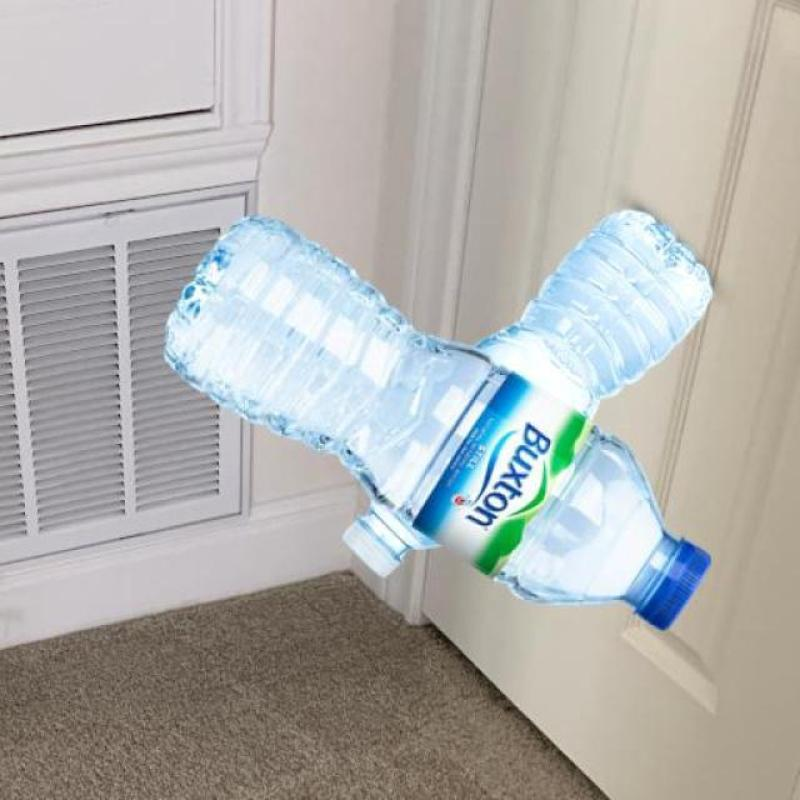botella: (164, 211, 711, 631), (340, 213, 715, 576)
